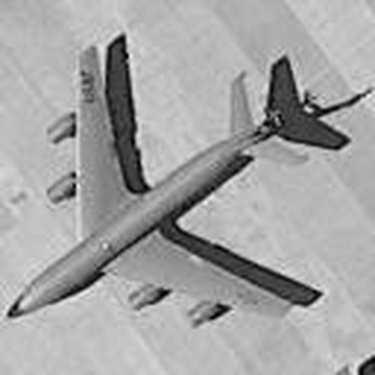airplane: (3, 22, 349, 332)
